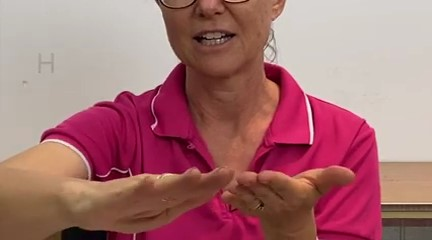H: (58, 152, 369, 238)
